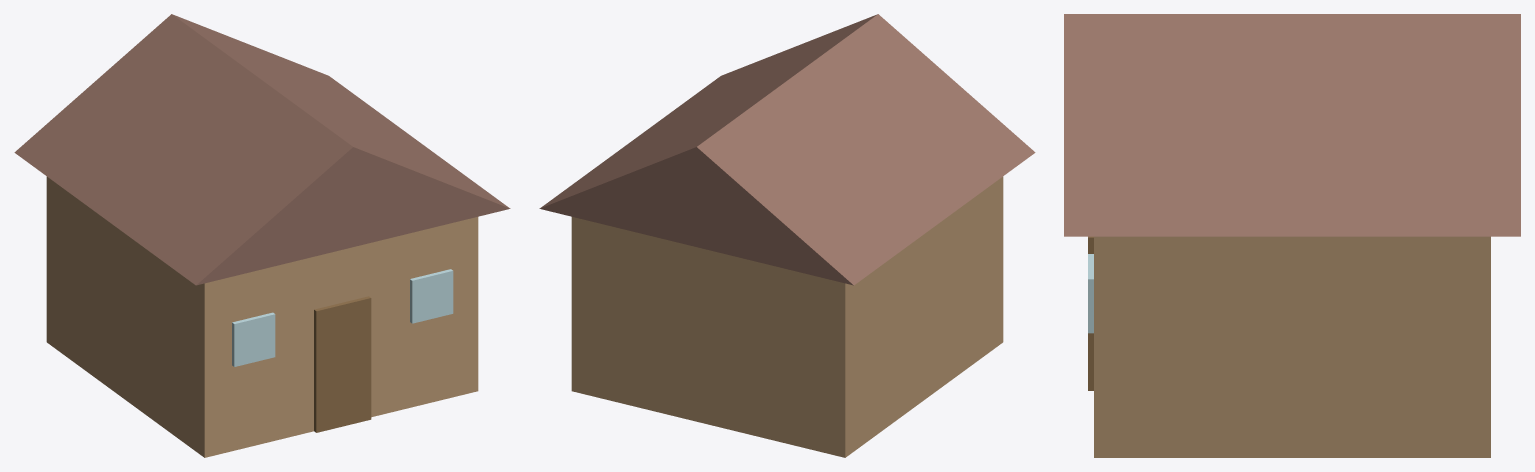
File: cabin.glb
3 views of the same model, side by side, from view 1: azimuth 30°, elevation 25°; view 2: azimuth 150°, elevation 25°; view 3: azimuth 270°, elevation 25° (orthographic). The views are drawn at different scales.
Visible parts, largest first — view 1: Roof, Walls, Door, WindowL, WindowR; view 2: Walls, Roof; view 3: Roof, Walls, WindowR.
Boxes of the visible parts, x1,y1,x2,y2 form: Roof: (14,14,510,285); Walls: (46,176,478,457); Door: (314,296,371,432); WindowL: (232,312,275,366); WindowR: (410,269,453,323); Walls: (571,176,1003,457); Roof: (539,14,1035,285); Roof: (1064,14,1520,236); Walls: (1094,236,1490,457); WindowR: (1088,254,1093,333).
Size of the model in its own units: 4.6 by 4 by 4.6.
